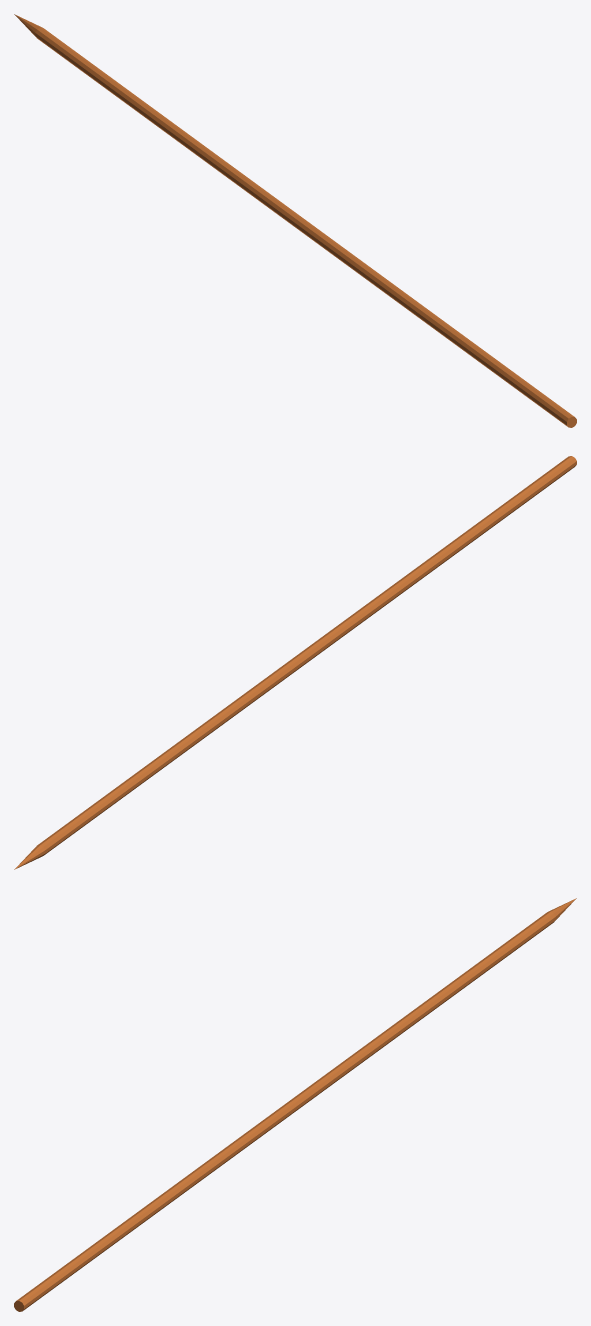
Rendered from Spear_01.fbx.
3 renders of one model, top to bottom at view 1: azimuth 30°, elevation 25°; view 2: azimuth 150°, elevation 25°; view 3: azimuth 330°, elevation 25°, orthographic.
Parts seen in each view (by area): view 1: Spear_01; view 2: Spear_01; view 3: Spear_01.
Boxes of the visible parts, x1,y1,x2,y2 form: Spear_01: [14, 14, 576, 427]; Spear_01: [14, 456, 576, 869]; Spear_01: [14, 898, 576, 1311].
Bounding box in the file's own units: 2.72 × 2.86 × 260.
